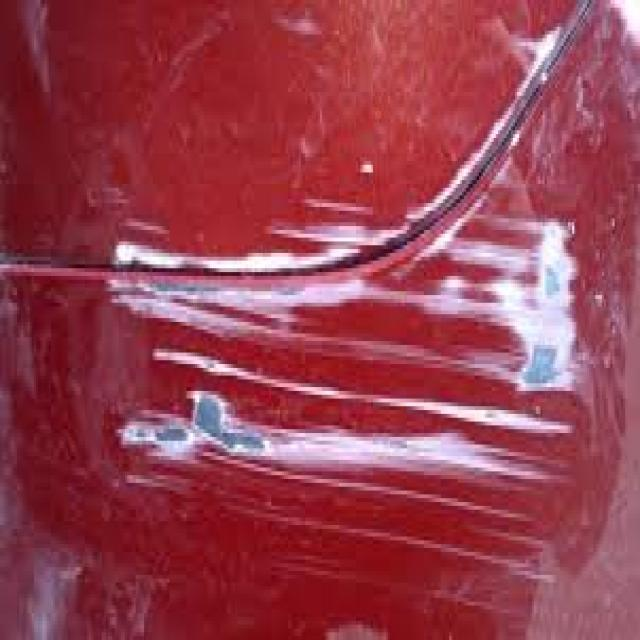Scratch: (104, 180, 587, 506)
